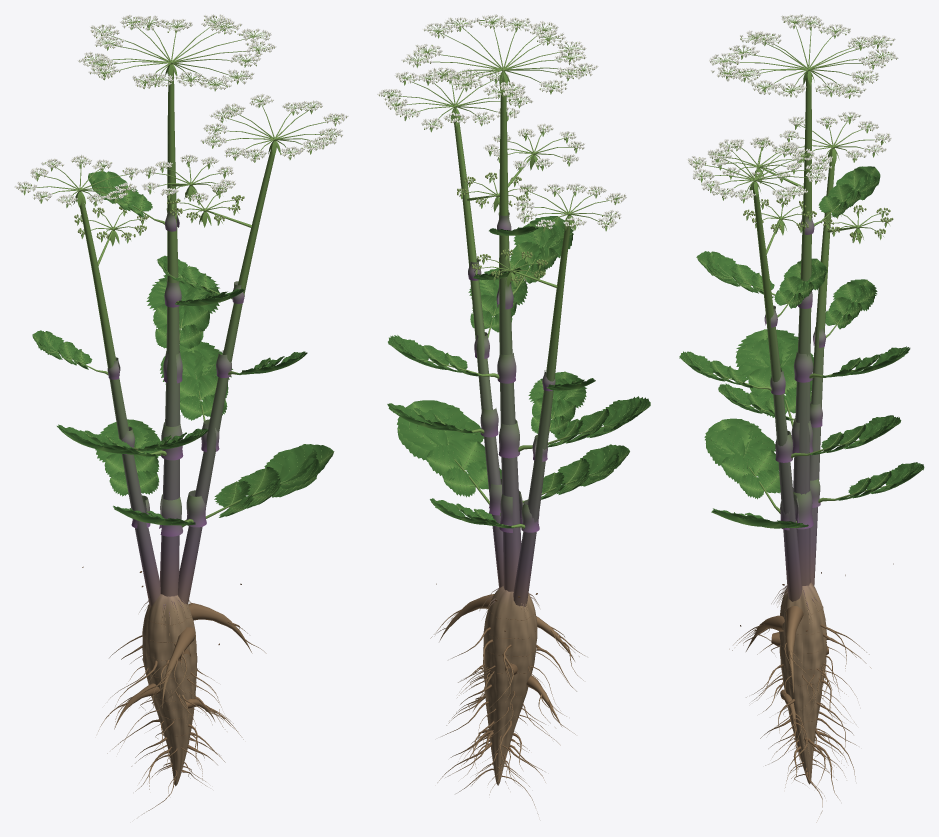
The model's file is baizhi_model.glb.
The picture shows the model from 3 angles, left to right: view 1: azimuth 30°, elevation 25°; view 2: azimuth 150°, elevation 25°; view 3: azimuth 270°, elevation 25°; orthographic projection.
Visible parts, largest first — view 1: leaf, stem, root, petal, sheath, bud, vein; view 2: leaf, stem, root, petal, sheath, bud, vein; view 3: leaf, stem, root, petal, sheath, vein, bud.
Boxes of the visible parts, x1,y1,x2,y2 form: leaf: (22, 23, 336, 525); stem: (20, 17, 341, 606); root: (98, 594, 266, 814); petal: (14, 14, 348, 204); sheath: (107, 208, 244, 536); bud: (16, 15, 346, 239); vein: (33, 172, 333, 524); leaf: (387, 23, 650, 528); stem: (383, 16, 622, 606); root: (430, 586, 584, 814); petal: (377, 14, 626, 228); sheath: (468, 212, 555, 532); bud: (379, 16, 624, 282); vein: (389, 217, 648, 525); leaf: (679, 23, 924, 528); stem: (693, 17, 894, 601); root: (729, 582, 871, 822); petal: (687, 14, 898, 199); sheath: (764, 211, 825, 530); vein: (681, 169, 922, 527); bud: (689, 15, 896, 239).
Bounding box in the file's own units: 1.65 × 4.39 × 1.29.
